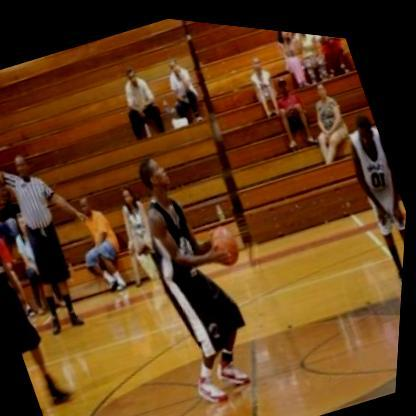basketball: (205, 211, 251, 266)
